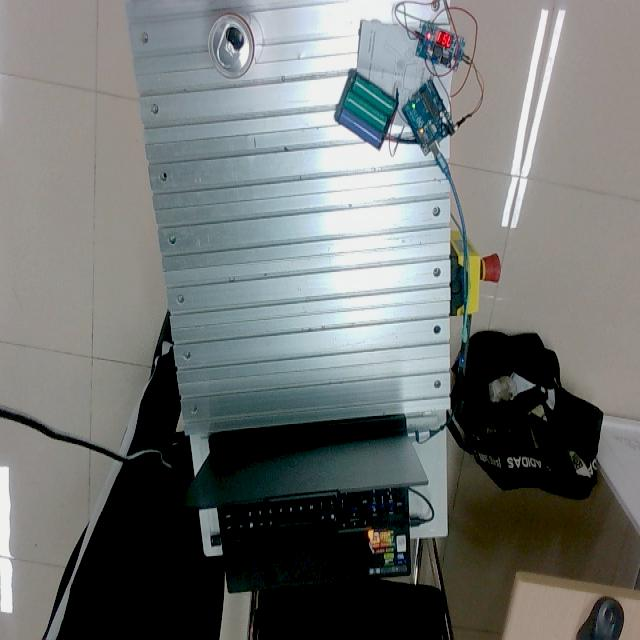coca: (208, 13, 256, 80)
